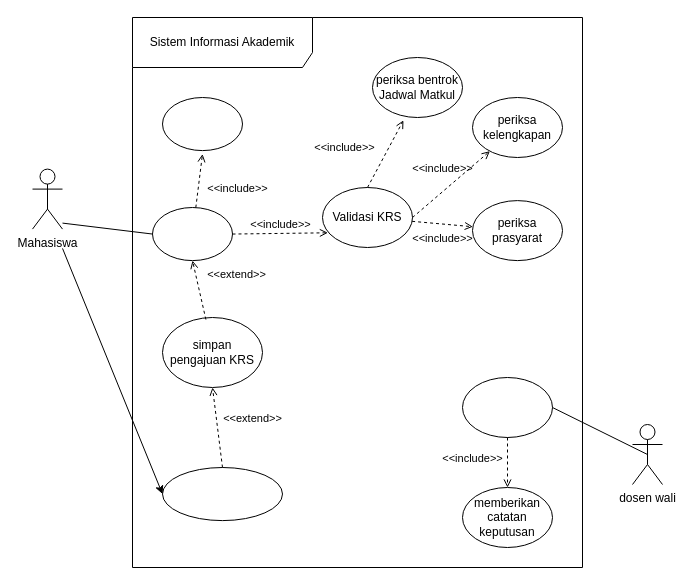
This 693x585 diagram has some shape labels left out. The box of each missing label's shape, as (x1, y1, x2, y2) in pixels:
Ajukan KRS: (152, 206, 232, 261)
memilih mata kuliah: (162, 96, 242, 151)
mengunduh bukti pengajuan: (162, 466, 282, 521)
menyetujui atau menolak KRS: (462, 376, 552, 438)
